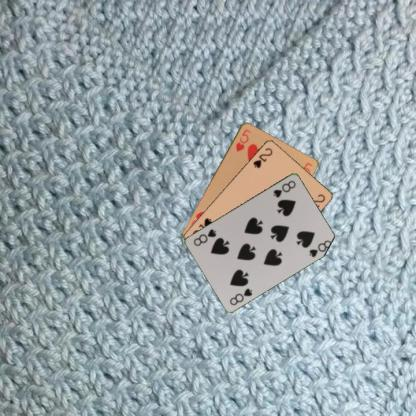2s: (250, 145, 275, 169)
5h: (233, 126, 252, 152)
8s: (270, 177, 297, 199), (227, 286, 254, 306)
